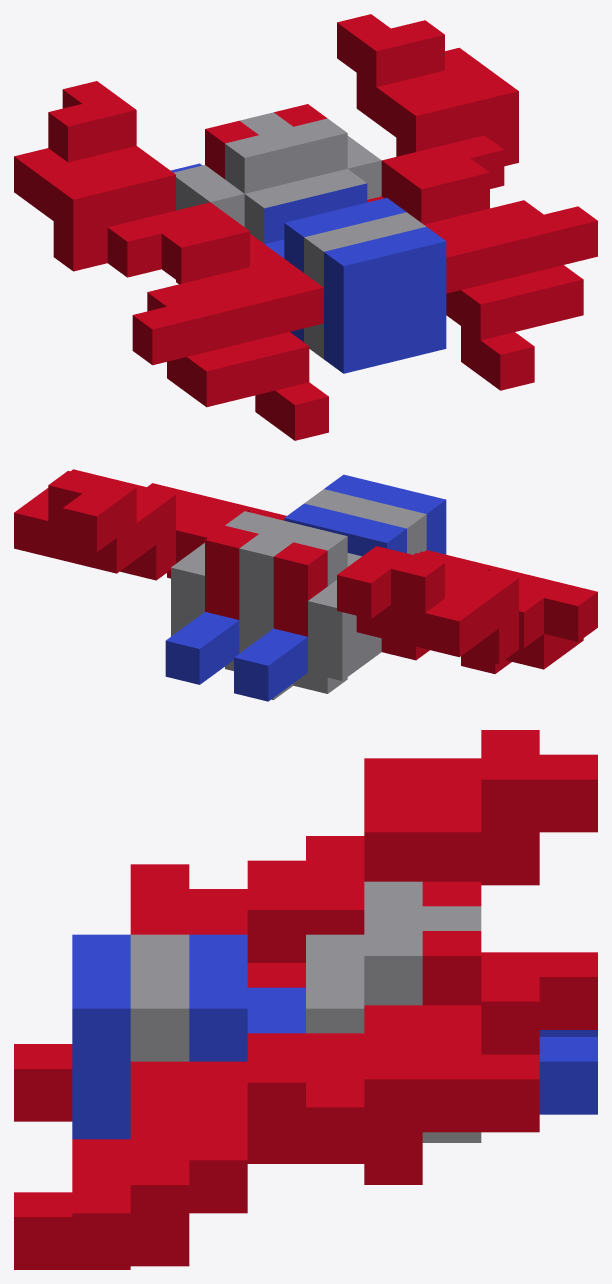
Rendered from GalagaEnemyMoth.glb.
3 views of the same model, one above another, from view 1: azimuth 30°, elevation 25°; view 2: azimuth 150°, elevation 25°; view 3: azimuth 270°, elevation 25° (orthographic). The views are drawn at different scales.
Parts seen in each view (by area): view 1: Cube.001; view 2: Cube.001; view 3: Cube.001.
Part boxes in pixels (left/top/right/bottom): Cube.001: left=14, top=14, right=597, bottom=440; Cube.001: left=14, top=469, right=597, bottom=701; Cube.001: left=14, top=730, right=597, bottom=1269.
Bounding box in the file's own units: 26 × 12 × 20.
